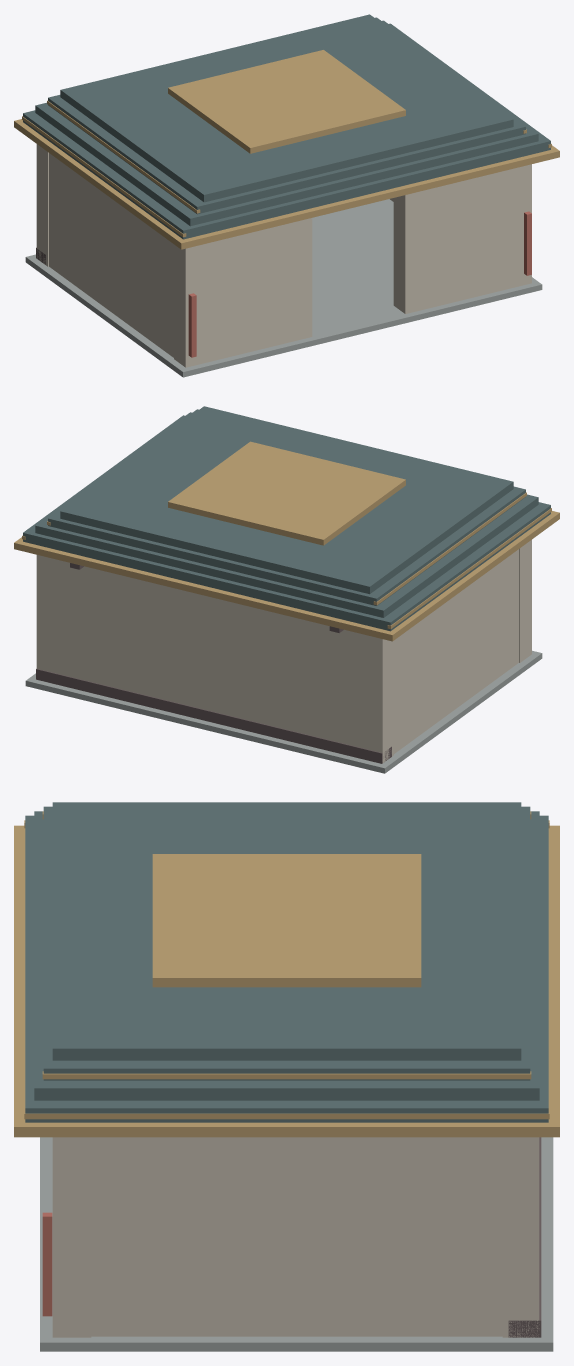
File: martial_hall.glb
3 views of the same model, one above another, from view 1: azimuth 30°, elevation 25°; view 2: azimuth 150°, elevation 25°; view 3: azimuth 270°, elevation 25° (orthographic). The views are drawn at different scales.
Parts seen in each view (by area): view 1: martial_hall_09_roof_courses, martial_hall_04_front_panels, martial_hall_00_foundation, martial_hall_02_side_walls, martial_hall_11_upper_ridge, martial_hall_08_eaves, martial_hall_03_back_wall, martial_hall_10_ridge_trim, martial_hall_12_banners; view 2: martial_hall_09_roof_courses, martial_hall_03_back_wall, martial_hall_02_side_walls, martial_hall_11_upper_ridge, martial_hall_08_eaves, martial_hall_00_foundation, martial_hall_01_rear_base, martial_hall_04_front_panels, martial_hall_10_ridge_trim; view 3: martial_hall_09_roof_courses, martial_hall_02_side_walls, martial_hall_11_upper_ridge, martial_hall_08_eaves, martial_hall_00_foundation, martial_hall_04_front_panels, martial_hall_03_back_wall, martial_hall_10_ridge_trim, martial_hall_01_rear_base, martial_hall_12_banners.
Boxes of the visible parts, x1,y1,x2,y2 form: martial_hall_09_roof_courses: [23, 14, 550, 239]; martial_hall_04_front_panels: [174, 164, 531, 367]; martial_hall_00_foundation: [25, 199, 542, 377]; martial_hall_02_side_walls: [49, 153, 393, 357]; martial_hall_11_upper_ridge: [168, 50, 405, 153]; martial_hall_08_eaves: [14, 119, 559, 249]; martial_hall_03_back_wall: [36, 144, 48, 266]; martial_hall_10_ridge_trim: [22, 100, 551, 237]; martial_hall_12_banners: [188, 211, 531, 357]; martial_hall_09_roof_courses: [23, 406, 550, 631]; martial_hall_03_back_wall: [36, 555, 393, 763]; martial_hall_02_side_walls: [394, 549, 518, 753]; martial_hall_11_upper_ridge: [168, 441, 405, 545]; martial_hall_08_eaves: [14, 511, 559, 641]; martial_hall_00_foundation: [25, 650, 542, 773]; martial_hall_01_rear_base: [36, 668, 391, 763]; martial_hall_04_front_panels: [519, 540, 531, 662]; martial_hall_10_ridge_trim: [22, 492, 551, 628]; martial_hall_09_roof_courses: [25, 802, 548, 1122]; martial_hall_02_side_walls: [91, 1137, 502, 1336]; martial_hall_11_upper_ridge: [152, 854, 421, 987]; martial_hall_08_eaves: [14, 825, 559, 1137]; martial_hall_00_foundation: [40, 1137, 553, 1351]; martial_hall_04_front_panels: [52, 1137, 91, 1337]; martial_hall_03_back_wall: [502, 1137, 539, 1337]; martial_hall_10_ridge_trim: [24, 811, 549, 1119]; martial_hall_01_rear_base: [508, 1137, 541, 1337]; martial_hall_12_banners: [42, 1212, 52, 1316].
Size of the model in its own units: 17.5 by 7.93 by 13.4.
